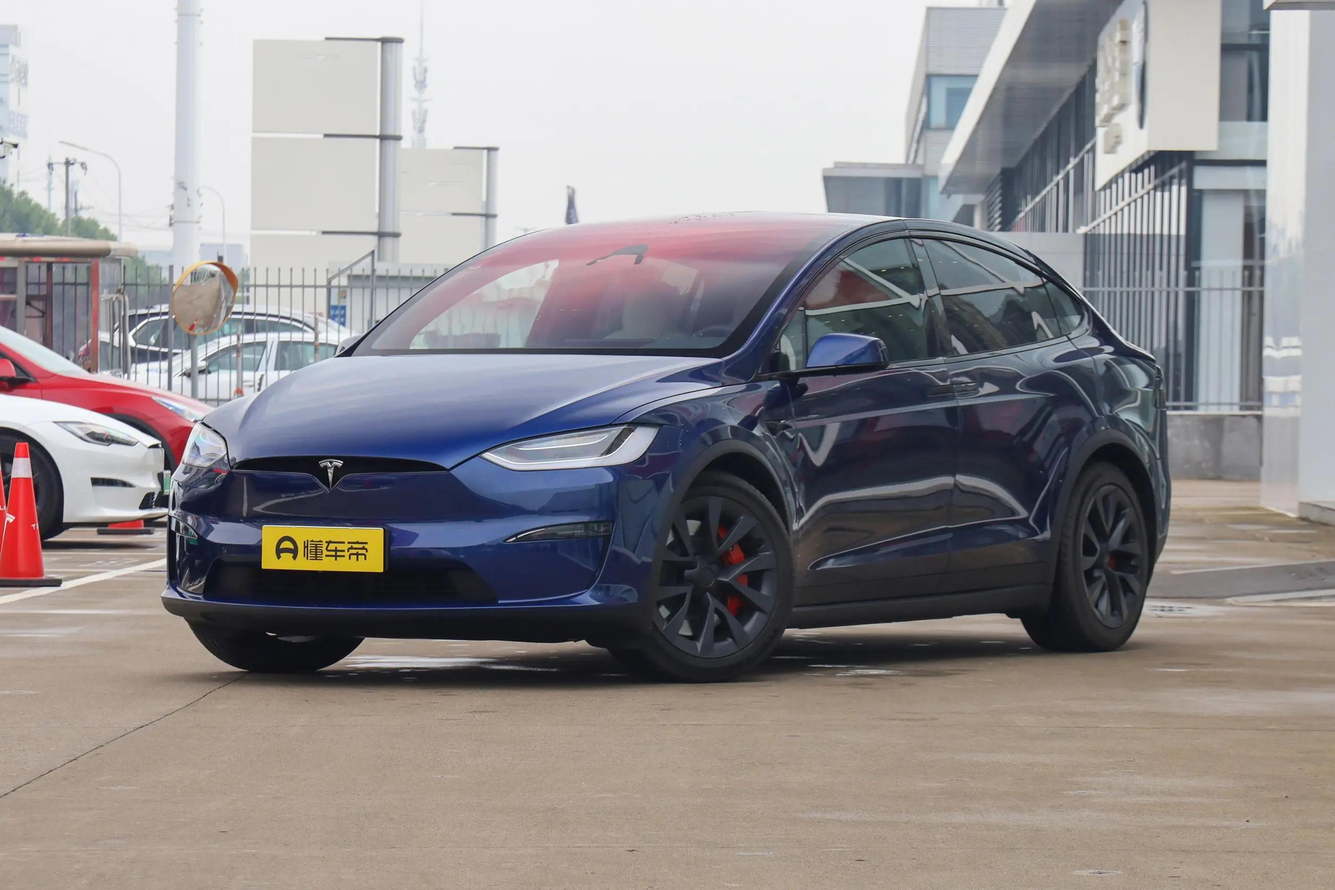Tesla: (318, 458, 343, 491)
